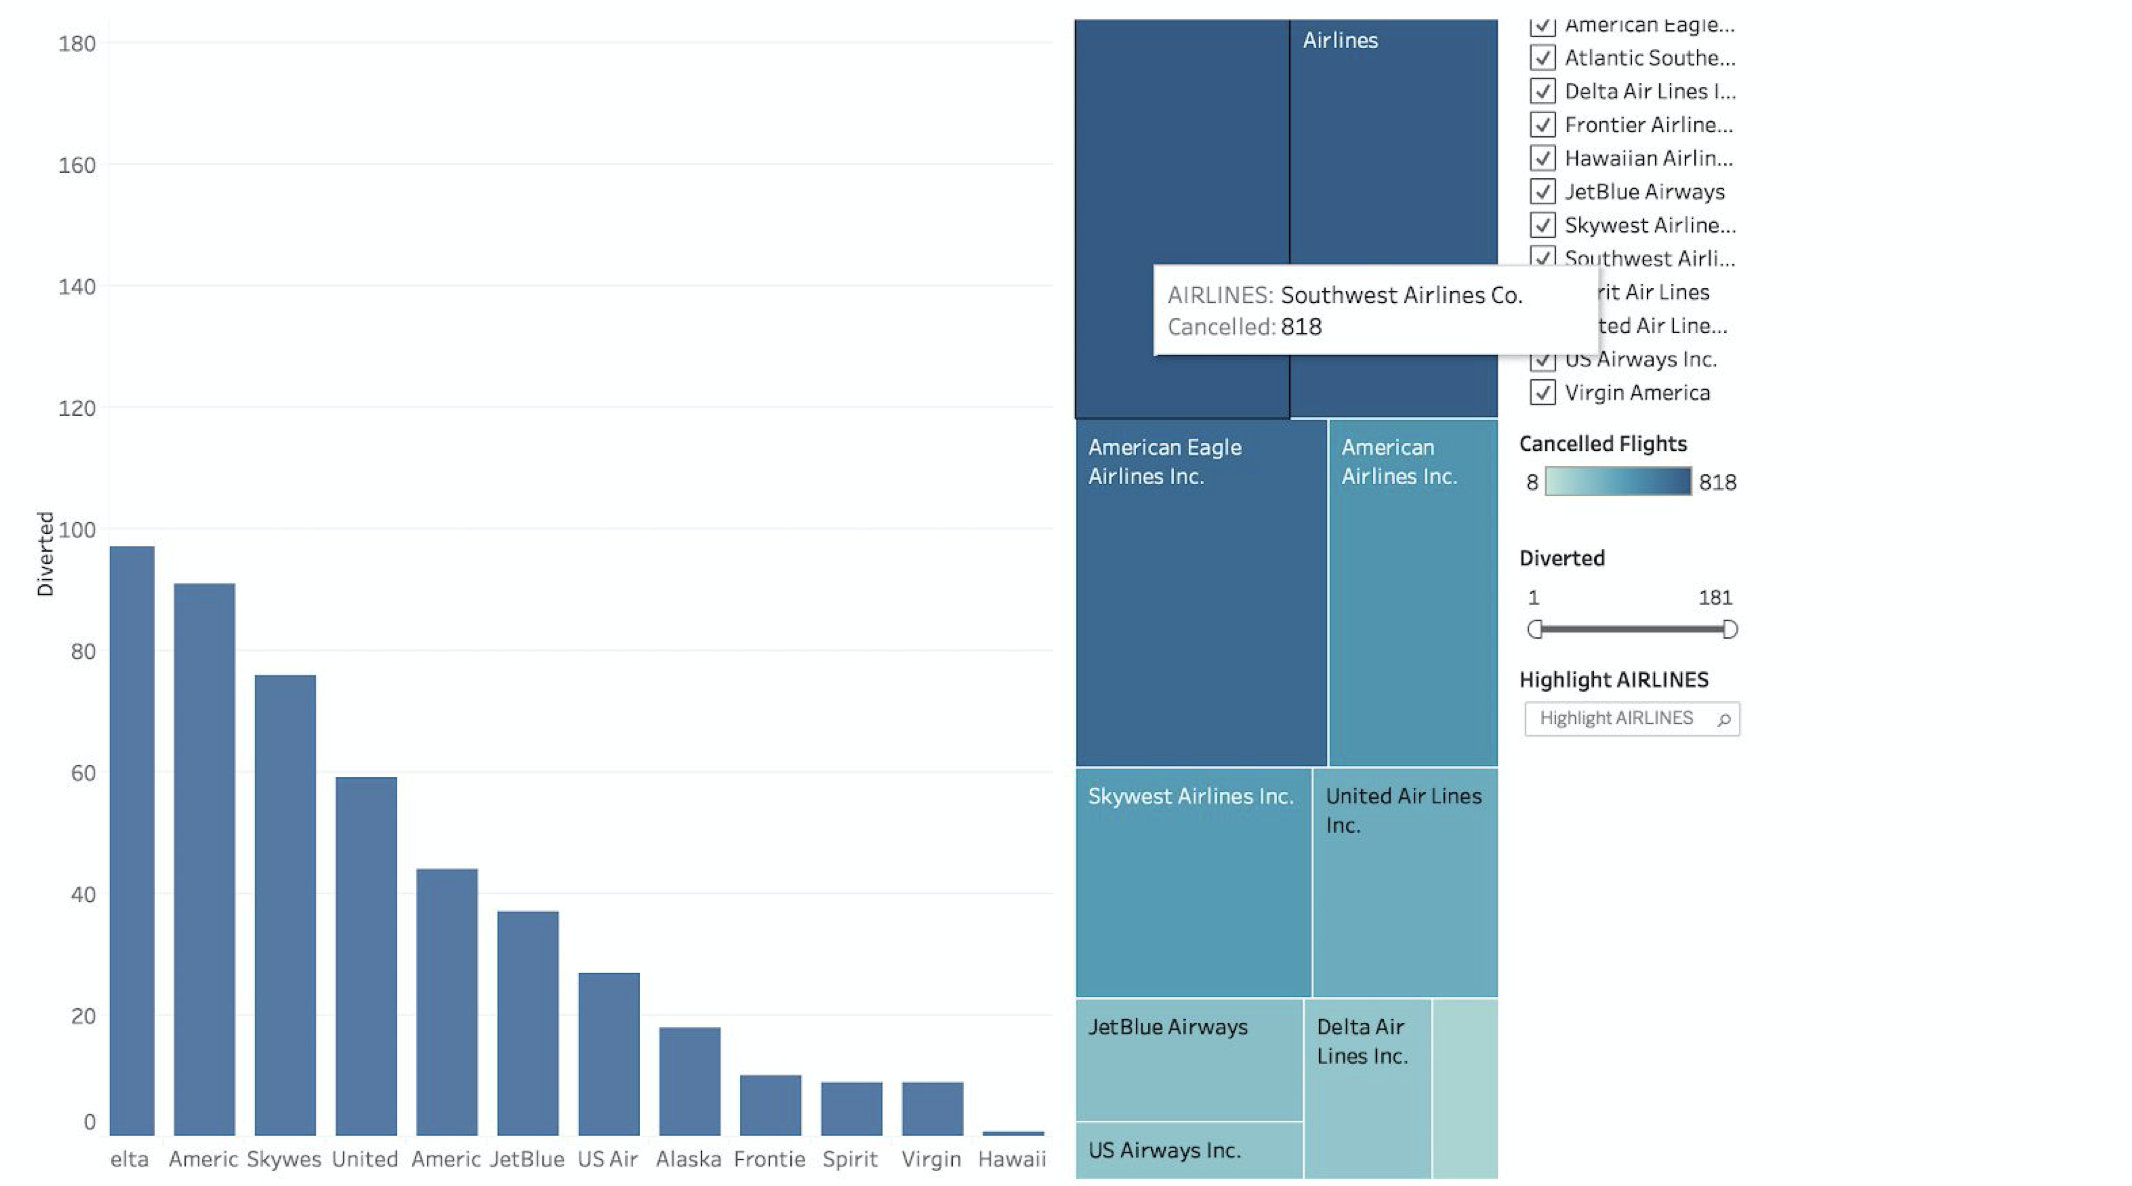

This screenshot's page, from the dashboard's own definition file:
{"tool":"tableau","page":{"name":"Dashboard 2","canvas":[1000,800],"ordinal":1},"visuals":[{"type":"worksheet","title":"Sheet 5","mark":"Automatic","rows":["DIVERTED"],"cols":["AIRLINE (airlines.csv)"],"box":[8,8,590,784]},{"type":"worksheet","title":"Sheet 3","mark":"Automatic","box":[598,8,257,784]},{"type":"filter","title":"Sheet 3","param":"[federated.03izi7301bhwa9183vz6g1h3pftt].[none:AIRLINE (airlines.csv):nk]","box":[855,8,137,317]},{"type":"legend","title":"Sheet 3","param":"[federated.03izi7301bhwa9183vz6g1h3pftt].[sum:CANCELLED:qk]","box":[855,325,137,65]},{"type":"filter","title":"Sheet 5","param":"[federated.03izi7301bhwa9183vz6g1h3pftt].[sum:DIVERTED:qk]","box":[855,390,137,69]},{"type":"highlighter","title":"Sheet 5","param":"[federated.03izi7301bhwa9183vz6g1h3pftt].[none:AIRLINE (airlines.csv):nk]","box":[855,459,137,52]}]}

Visuals, with their boxes on the page's 1000x800 design canvas (x1, y1, x2, y2). These are canvas units, not pixel positions in the 2132x1186 screenshot, which may show the page scaled, cropped or inside an application window:
"Sheet 5" worksheet: select_region(8, 8, 598, 792)
"Sheet 3" worksheet: select_region(598, 8, 855, 792)
"Sheet 3" filter: select_region(855, 8, 992, 325)
"Sheet 3" legend: select_region(855, 325, 992, 390)
"Sheet 5" filter: select_region(855, 390, 992, 459)
"Sheet 5" highlighter: select_region(855, 459, 992, 511)
